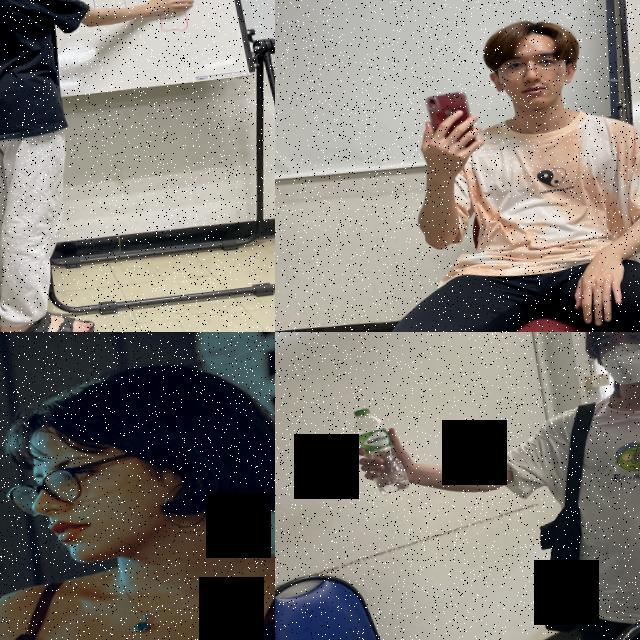bottle: (348, 402, 412, 498)
